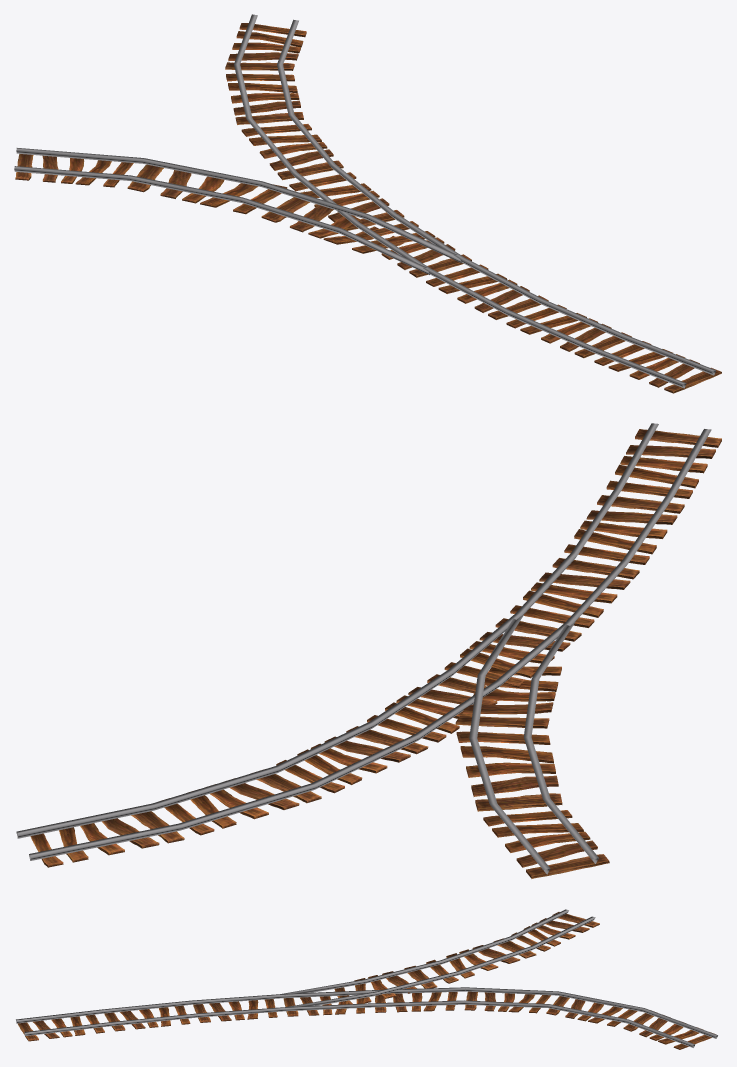
File: SWORDLIGHT20_MAIN1RAILS1S.fbx
The picture shows the model from 3 angles, top to bottom: view 1: azimuth 30°, elevation 25°; view 2: azimuth 150°, elevation 25°; view 3: azimuth 270°, elevation 25°; orthographic projection. The views are drawn at different scales.
Parts seen in each view (by area): view 1: SWORDLIGHT20_MAIN1RAILS1S; view 2: SWORDLIGHT20_MAIN1RAILS1S; view 3: SWORDLIGHT20_MAIN1RAILS1S.
Part boxes in pixels (x1,y1,x2,y2): SWORDLIGHT20_MAIN1RAILS1S: [14, 14, 721, 393]; SWORDLIGHT20_MAIN1RAILS1S: [16, 423, 721, 878]; SWORDLIGHT20_MAIN1RAILS1S: [16, 909, 717, 1049].
Bounding box in the file's own units: 105926 × 5760 × 234326.
2 materials, 2 textured.
